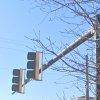traffic lights: (26, 49, 40, 81)
